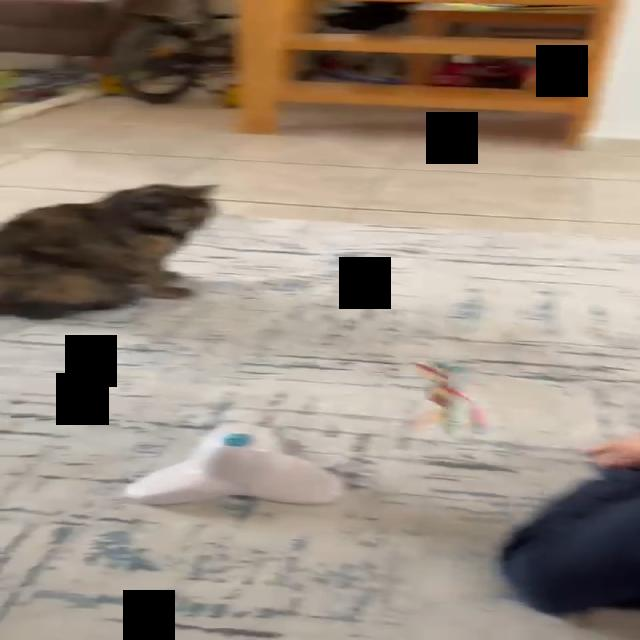authorized: (0, 182, 220, 320)
